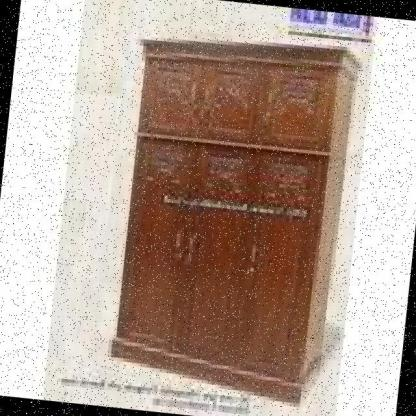Closet: (98, 21, 364, 409)
